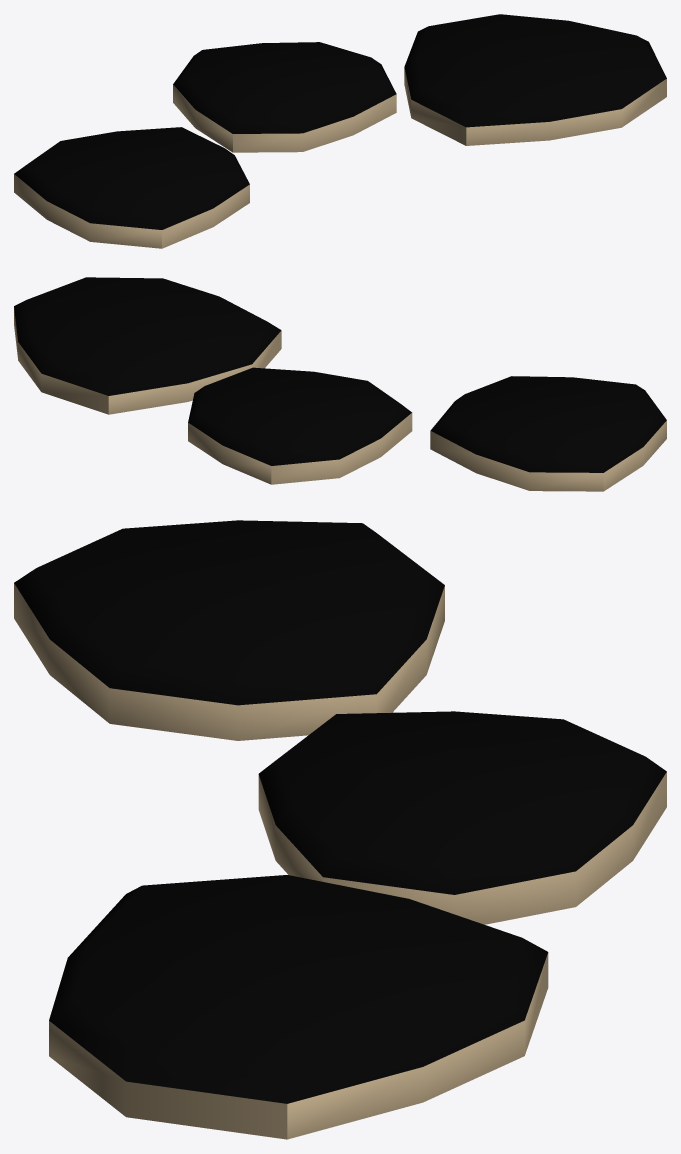
Rendered from SteppingStones.fbx.
The picture shows the model from 3 angles, top to bottom: view 1: azimuth 30°, elevation 25°; view 2: azimuth 150°, elevation 25°; view 3: azimuth 270°, elevation 25°; orthographic projection. The views are drawn at different scales.
Parts seen in each view (by area): view 1: SteppingStones; view 2: SteppingStones; view 3: SteppingStones.
Boxes of the visible parts, x1=… form: SteppingStones: x1=14, y1=14, x2=666, y2=248; SteppingStones: x1=14, y1=277, x2=666, y2=491; SteppingStones: x1=14, y1=520, x2=666, y2=1139.
Size of the model in its own units: 1.38 by 0.06 by 0.6636.
1 material, 1 textured.
